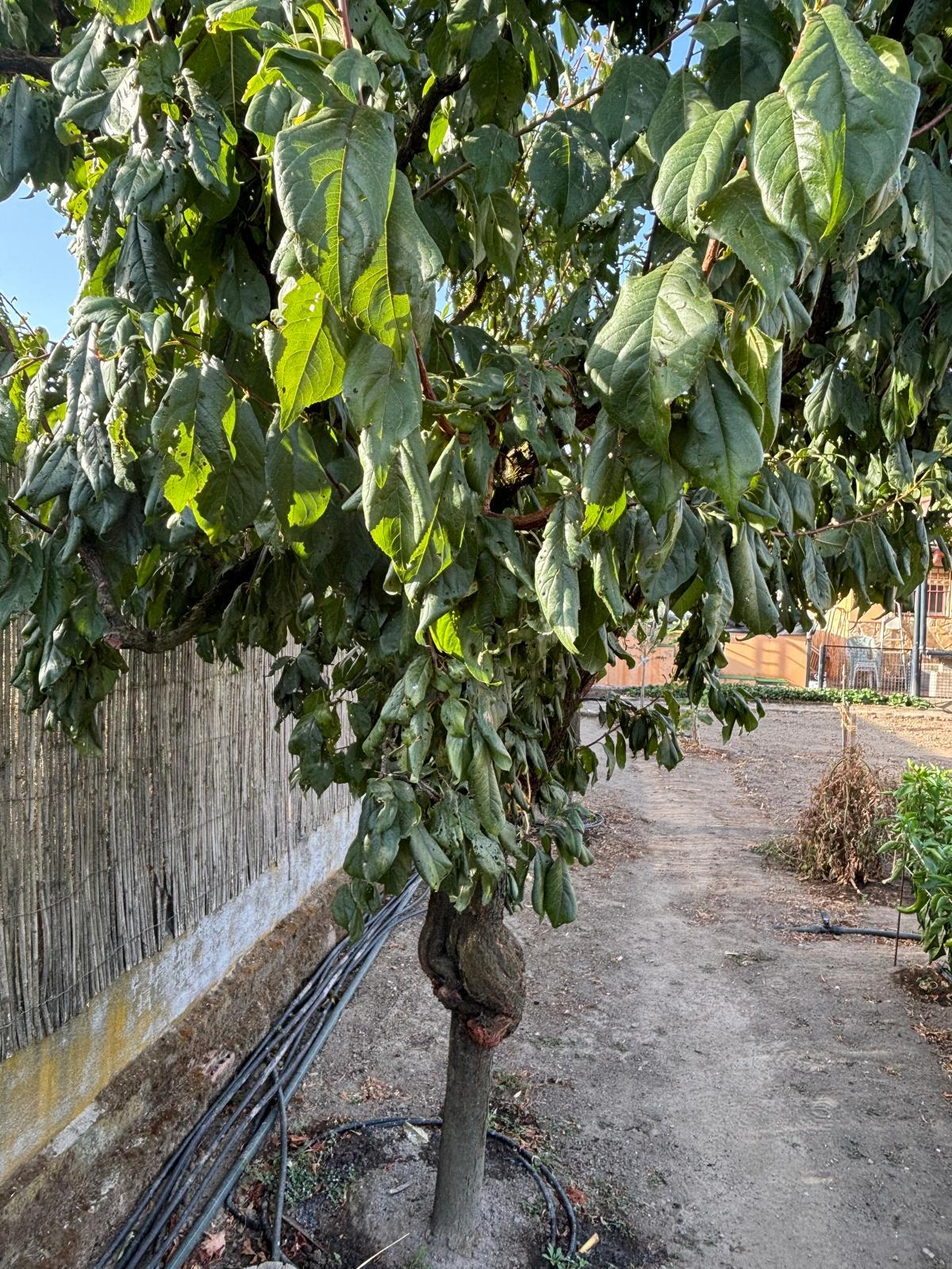ciruelo: (58, 96, 768, 1249)
